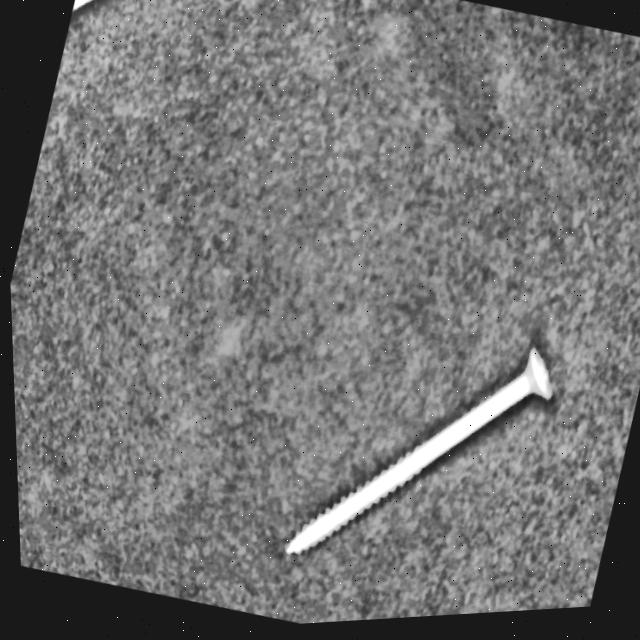Wood screw: (271, 300, 566, 618)
